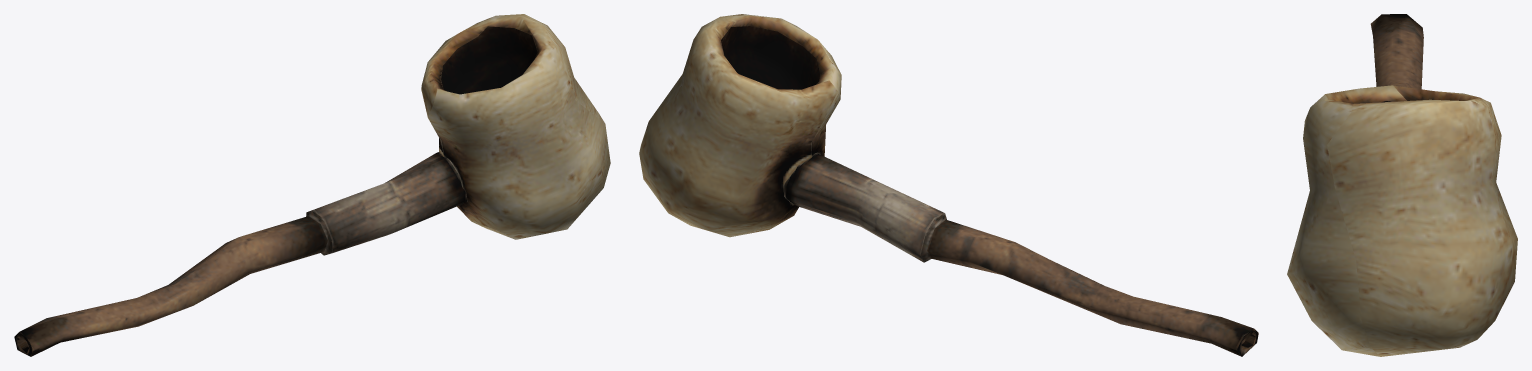
File: SmokePipe3Empty.fbx
3 renders of one model, left to right at view 1: azimuth 30°, elevation 25°; view 2: azimuth 150°, elevation 25°; view 3: azimuth 270°, elevation 25°, orthographic. The views are drawn at different scales.
Parts seen in each view (by area): view 1: SmokePipe3; view 2: SmokePipe3; view 3: SmokePipe3.
Boxes of the visible parts, x1,y1,x2,y2 form: SmokePipe3: [14, 14, 610, 356]; SmokePipe3: [639, 14, 1258, 356]; SmokePipe3: [1287, 14, 1517, 356].
Size of the model in its own units: 0.0941 by 0.0314 by 0.0252.
